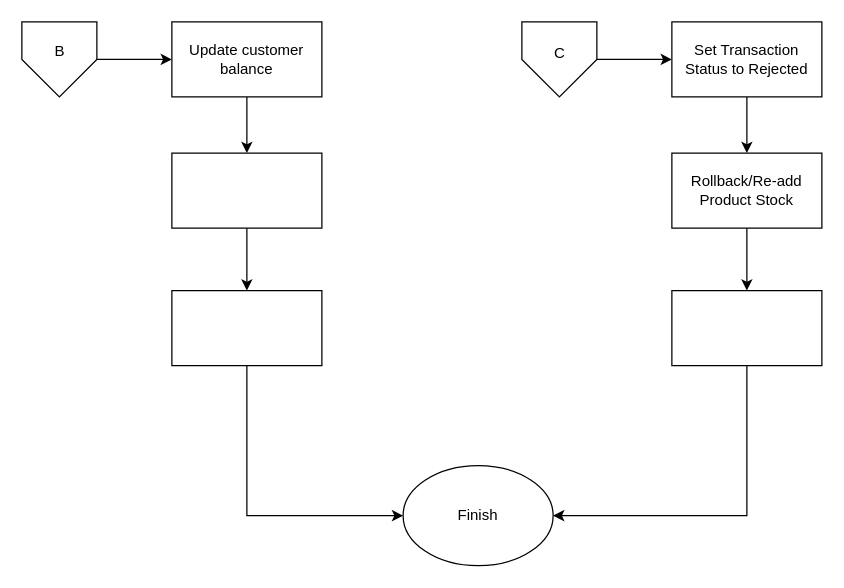
The diagram is 844 pixels wide and 588 high, and some of its shapes have lost their labels. The shapes that lost their labels are listed below. From the top down, each one's centre as x and y in pixels, then its label:
At [246,190]: "Set Transaction Status to Approved".
At [246,327]: "Set Order Status to Completed".
At [746,327]: "Set Order Status to Failed".
